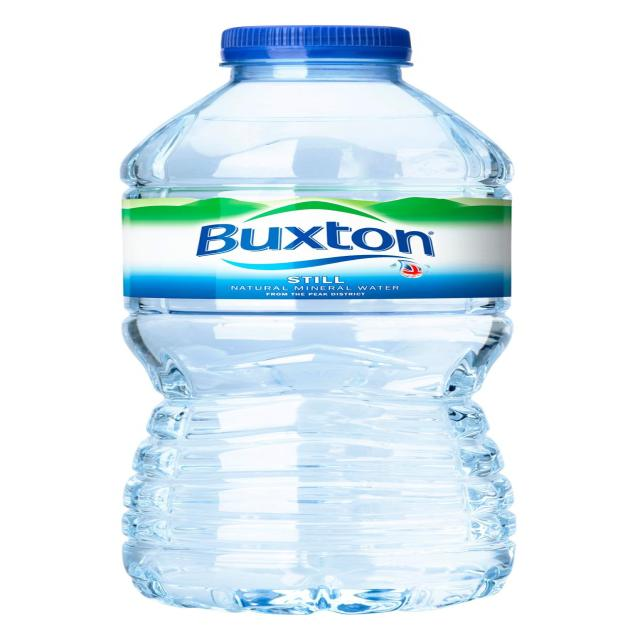bottle: (115, 14, 523, 620)
